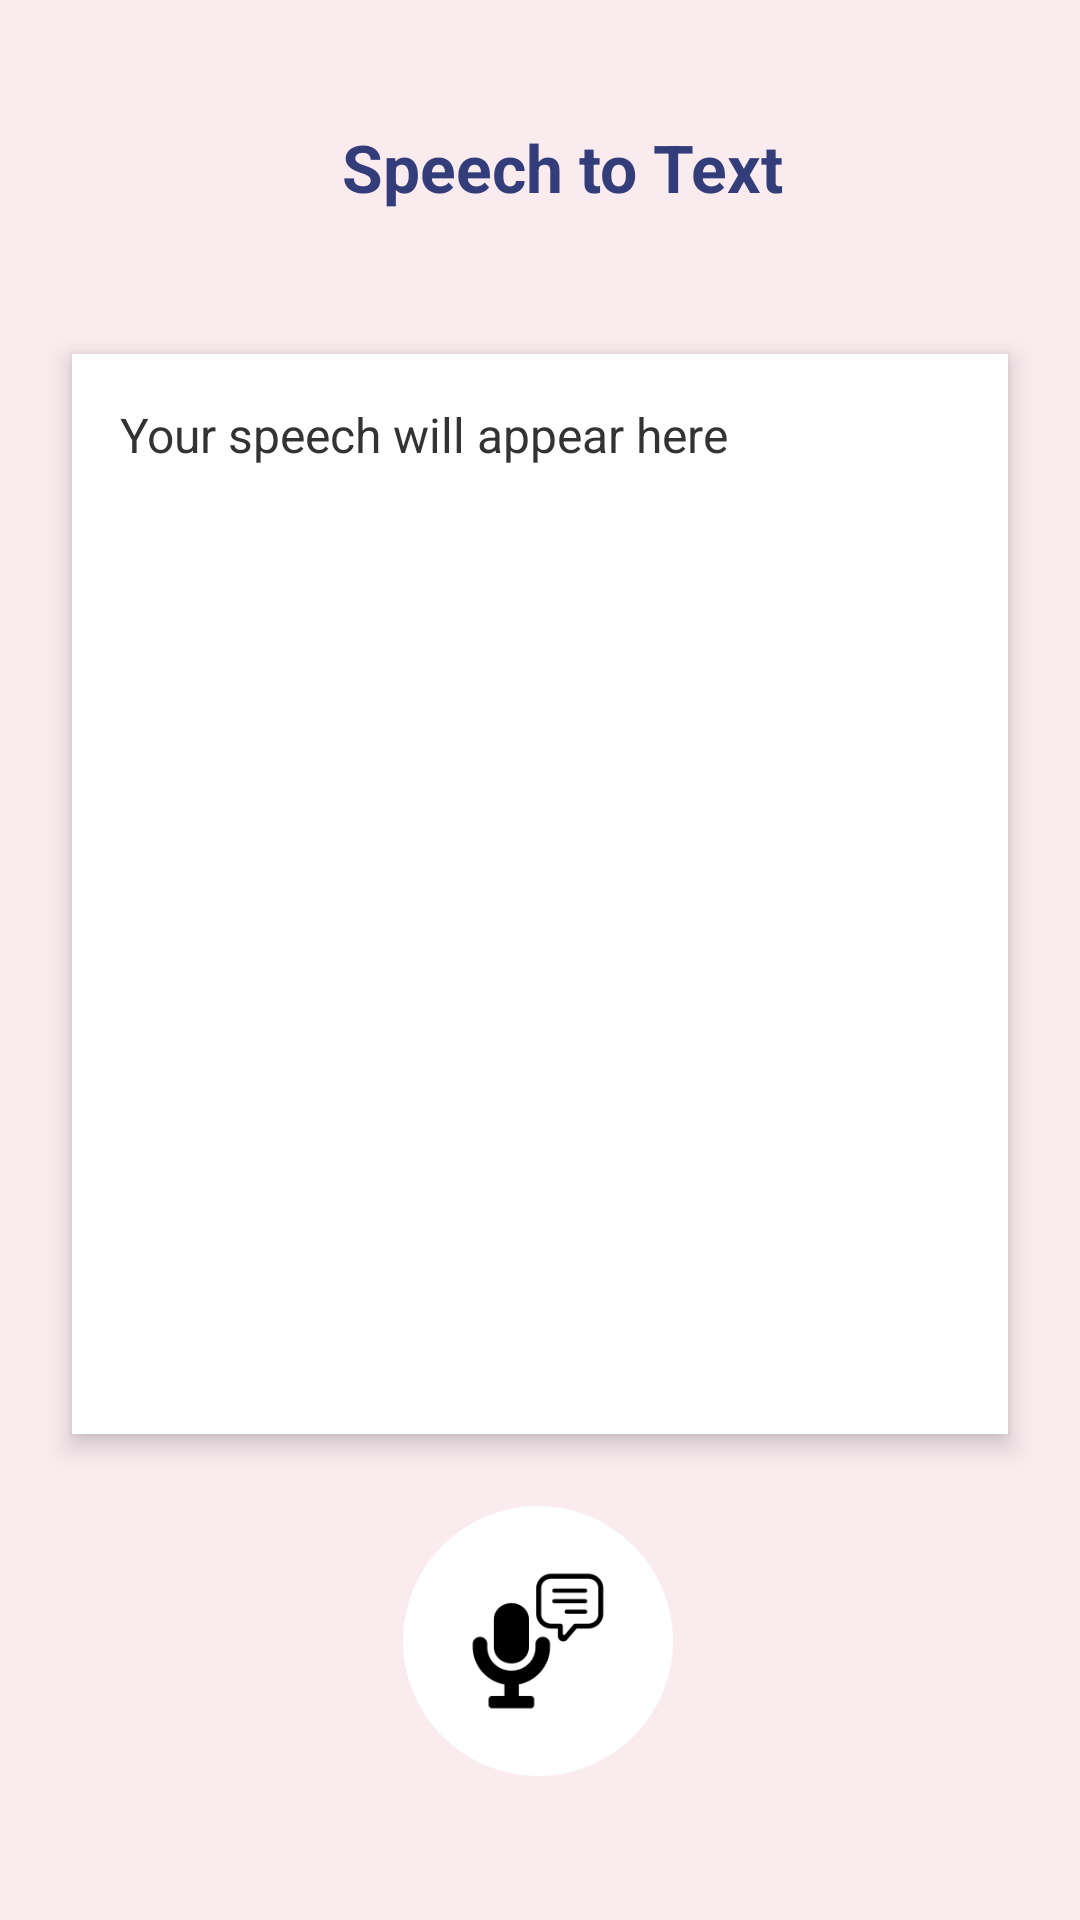

Named icons in this screenshot (1080w x 1920h) and their bounding boxes, bbox=[x1, y1, x2, y2]:
Speech to Text: bbox=[403, 1506, 673, 1776]
